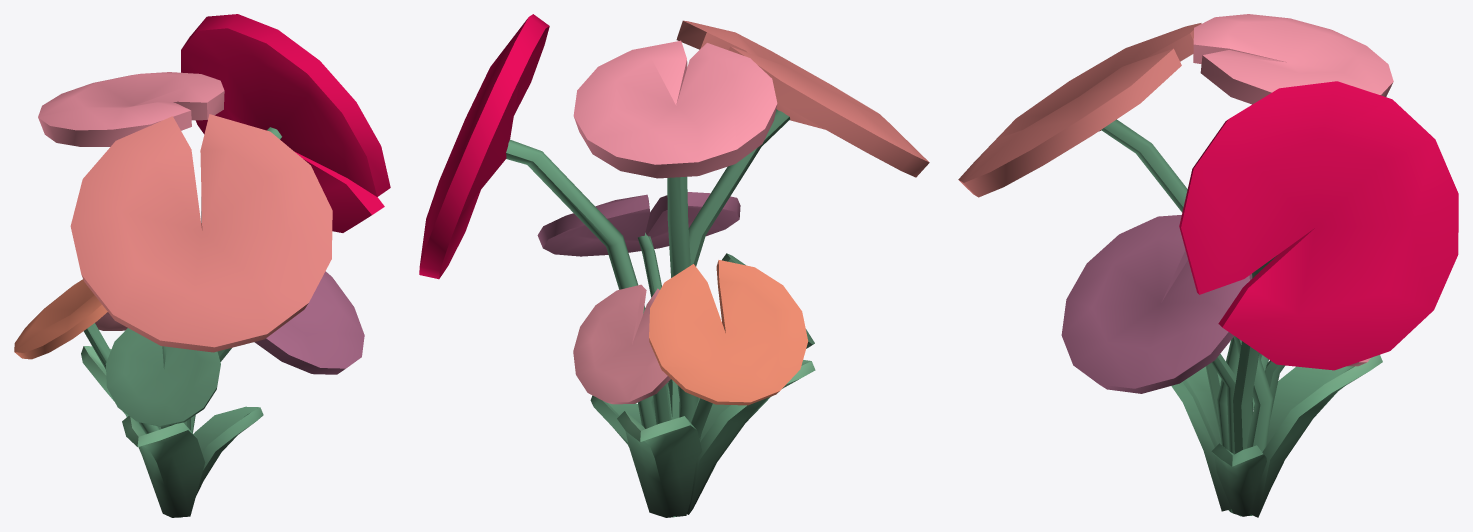
Rendered from Plant31.fbx.
3 renders of one model, left to right at view 1: azimuth 30°, elevation 25°; view 2: azimuth 150°, elevation 25°; view 3: azimuth 270°, elevation 25°, orthographic. The views are drawn at different scales.
Visible parts, largest first — view 1: Plant.045_Material.001_0; view 2: Plant.045_Material.001_0; view 3: Plant.045_Material.001_0.
Part boxes in pixels (left/top/right/bottom): Plant.045_Material.001_0: left=14, top=14, right=390, bottom=517; Plant.045_Material.001_0: left=419, top=14, right=929, bottom=517; Plant.045_Material.001_0: left=958, top=14, right=1458, bottom=517.
Size of the model in its own units: 42.15 by 49.84 by 46.45.
